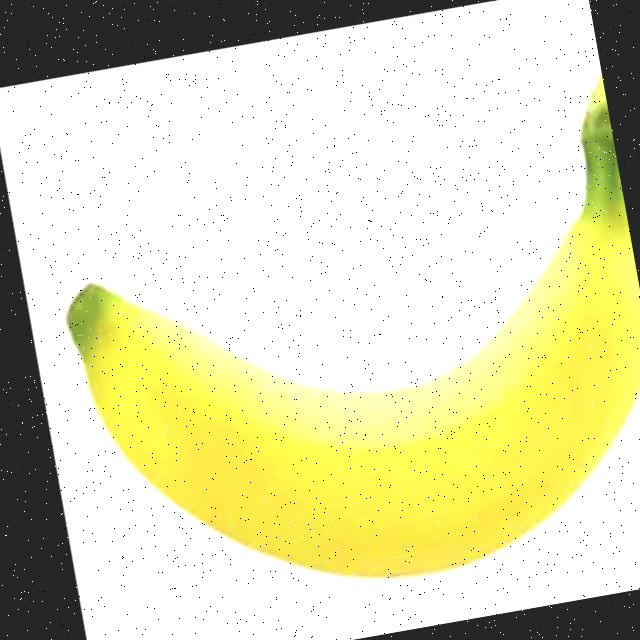Ripe: (10, 28, 640, 640)
